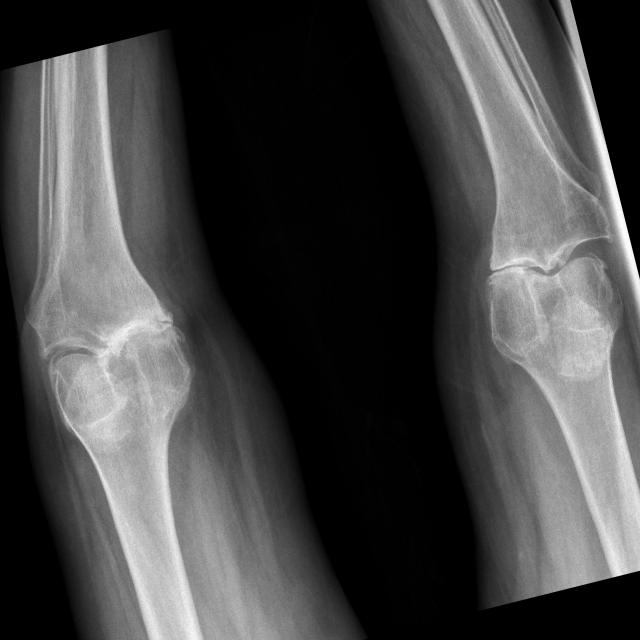Knee: (456, 175, 640, 376), (18, 254, 207, 444)
